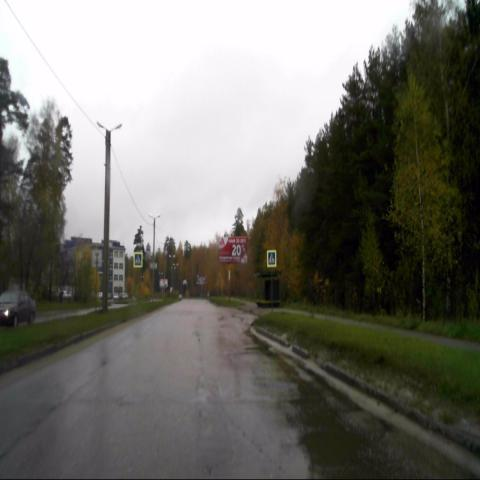5_19_1: (267, 250, 276, 268), (134, 252, 142, 267)
